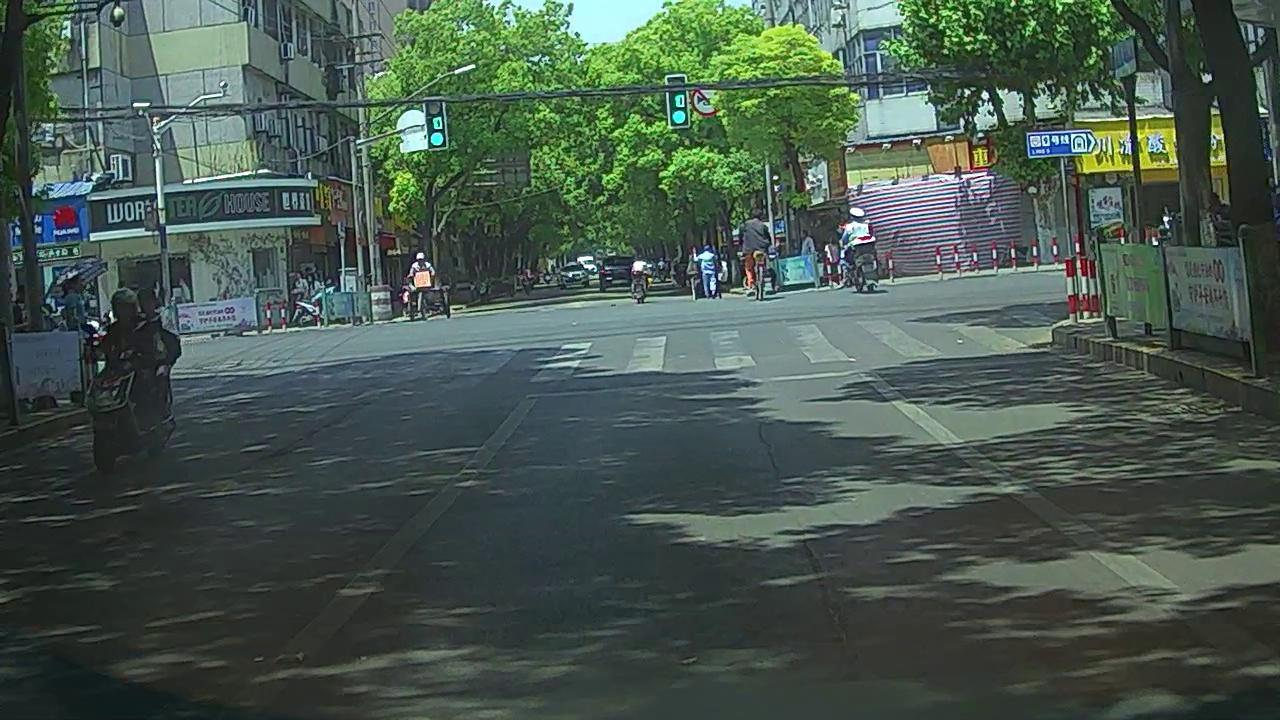traffic_light: (667, 77, 689, 128), (426, 99, 447, 150)
